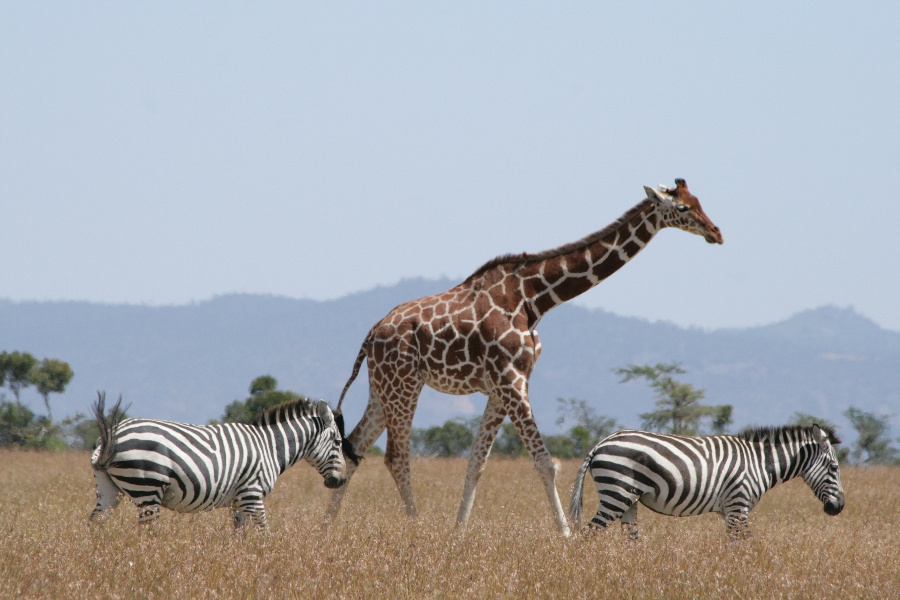giraffe: (335, 161, 730, 428)
